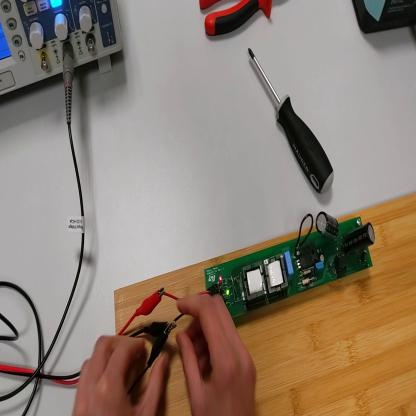hand: (176, 293, 257, 415), (73, 332, 170, 416)
high voltage board: (164, 214, 377, 324)
oscilloscope: (2, 1, 124, 99)
pliers: (201, 3, 283, 40)
screwdriver-: (249, 49, 336, 192)
welder station: (351, 3, 416, 40)
working area: (112, 185, 416, 413)
